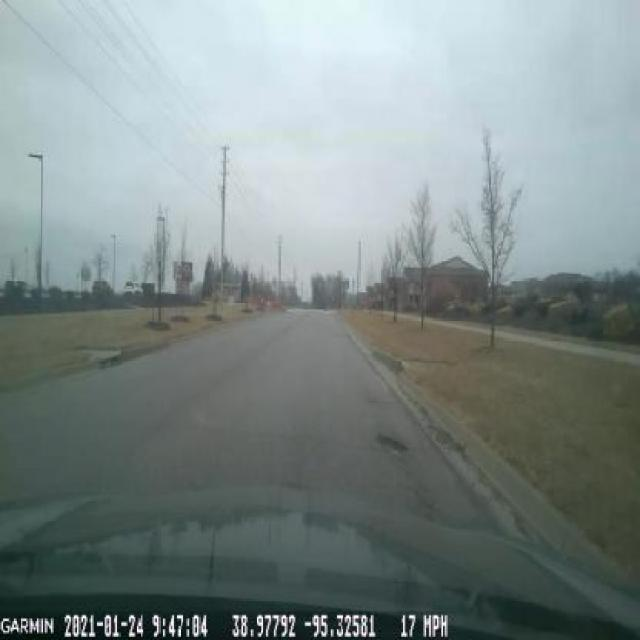Pothole: (375, 428, 414, 462)
